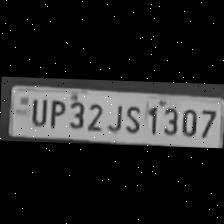0: (178, 104, 197, 137)
1: (142, 101, 160, 135)
2: (84, 99, 104, 132)
3: (65, 97, 84, 130), (160, 102, 178, 136)
7: (196, 104, 215, 138)
J: (105, 100, 123, 132)
P: (46, 96, 64, 128)
S: (122, 101, 142, 134)
U: (27, 94, 46, 127)
